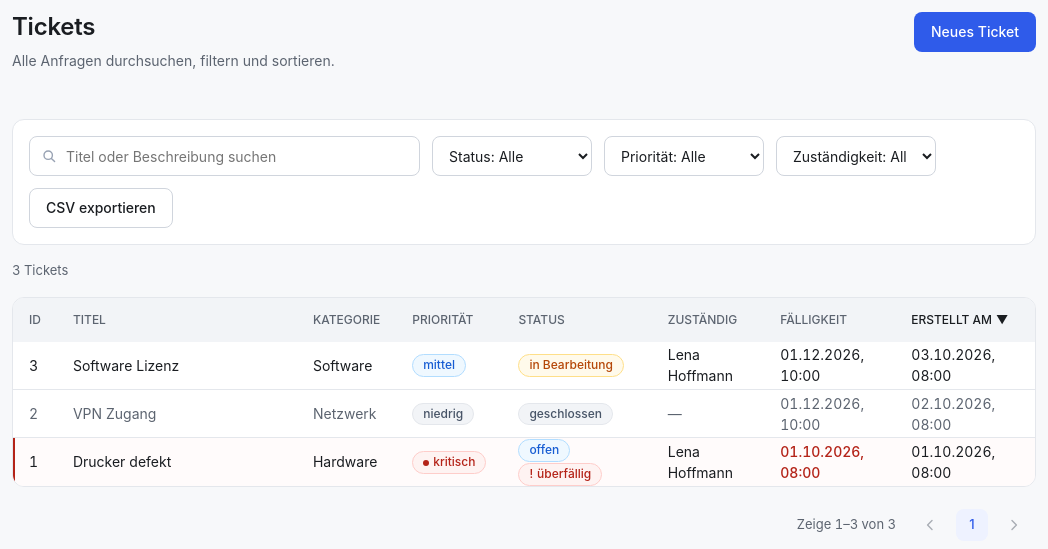
Test: TicketsPage › filters by a search term over title and description
The image size is (1048, 549).
Expected: the text "Drucker defekt" is shown, [57,438,297,486]
Type "Drucker" into the search field labelled "Titel oder Beschreibung suchen" at (224, 156), box [29,136,420,176]
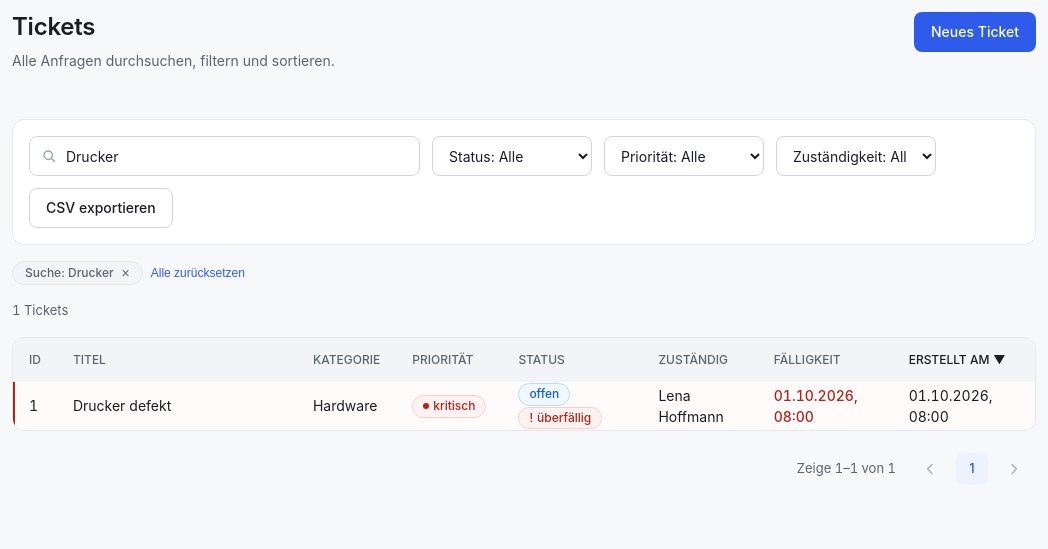
Expected: the text "Drucker defekt" is shown, [57,382,297,430]
Result: the text "VPN Zugang" is gone
